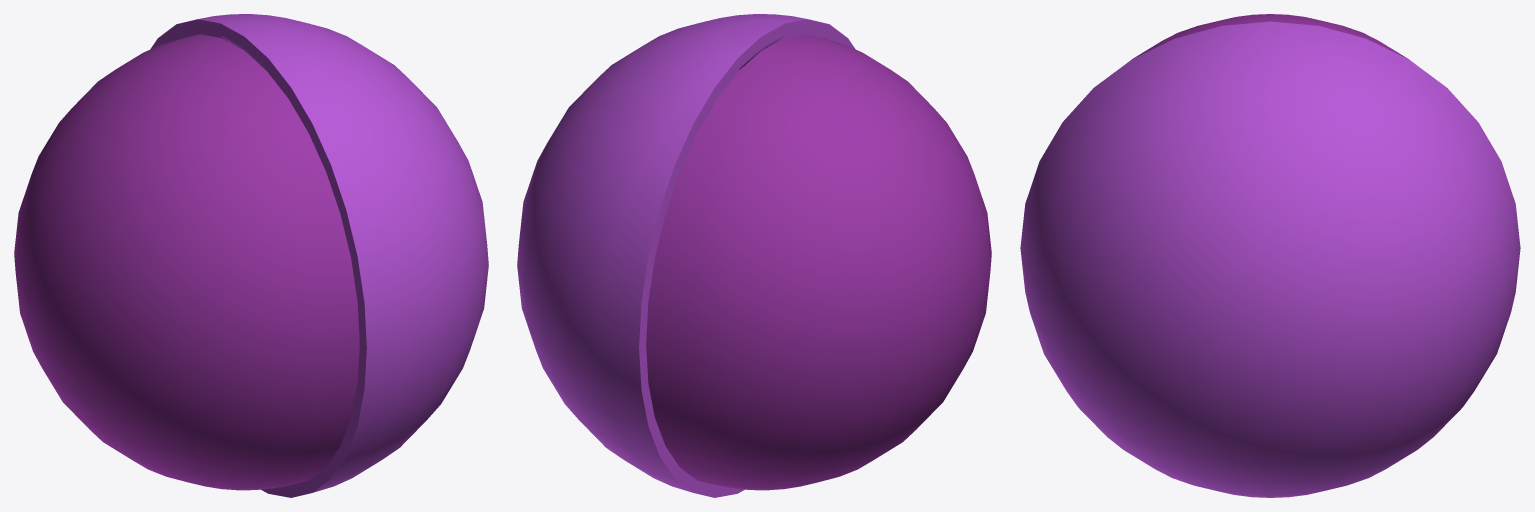
Rendered from Bola4.fbx.
3 views of the same model, side by side, from view 1: azimuth 30°, elevation 25°; view 2: azimuth 150°, elevation 25°; view 3: azimuth 270°, elevation 25° (orthographic). The views are drawn at different scales.
Parts seen in each view (by area): view 1: bola3mitadoscura, bola3mitadclara; view 2: bola3mitadoscura, bola3mitadclara; view 3: bola3mitadclara, bola3mitadoscura.
Boxes of the visible parts, x1,y1,x2,y2 form: bola3mitadoscura: (14,34,359,490); bola3mitadclara: (150,14,488,497); bola3mitadoscura: (646,34,991,490); bola3mitadclara: (517,14,855,497); bola3mitadclara: (1020,21,1520,497); bola3mitadoscura: (1132,14,1408,59).
Size of the model in its own units: 107 by 110 by 110.
